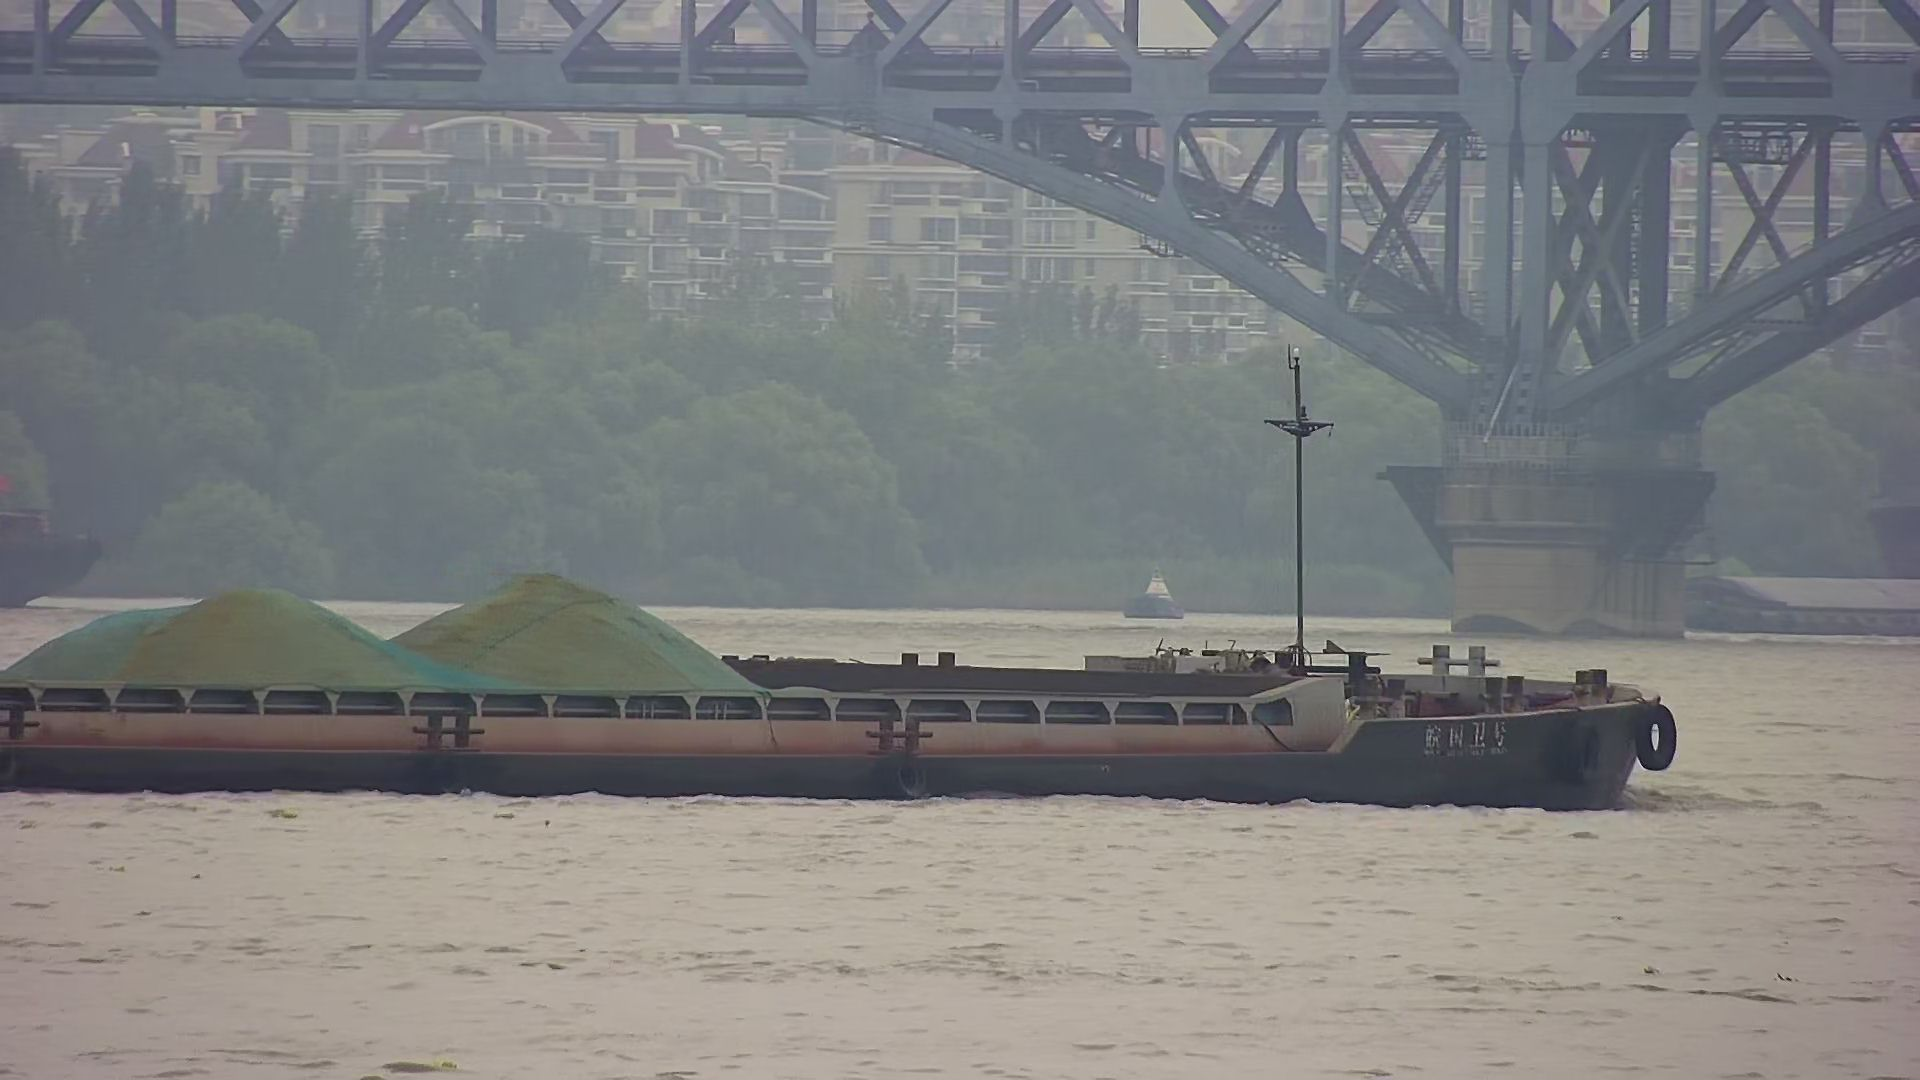boat: (1122, 556, 1187, 632)
bridge: (1, 4, 1917, 655)
ship: (1, 338, 1691, 824)
